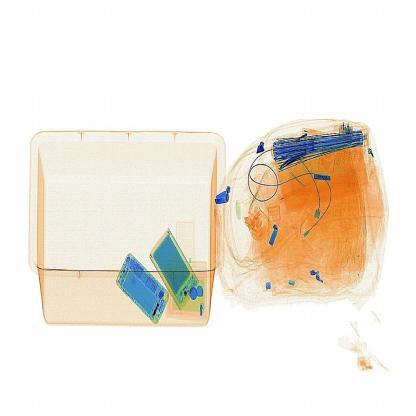pliers: (274, 142, 316, 174)
